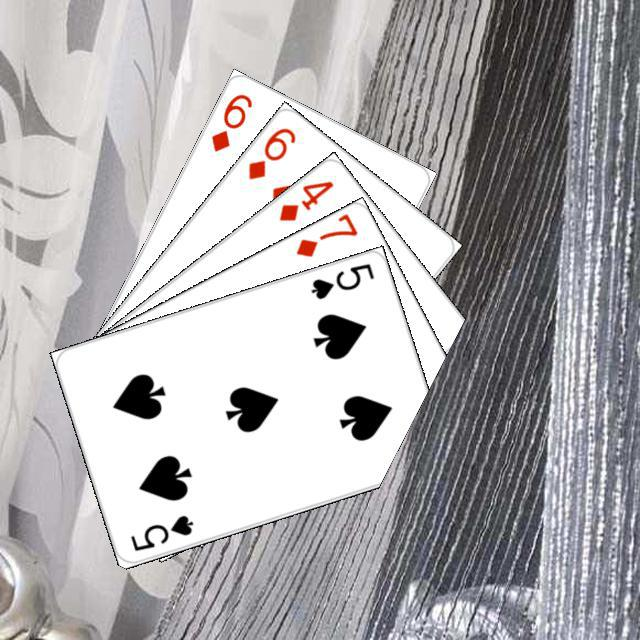4d: (273, 176, 336, 223)
5s: (306, 258, 376, 301), (125, 510, 195, 553)
6d: (243, 122, 298, 182), (206, 89, 255, 154)
7d: (290, 210, 360, 259)
